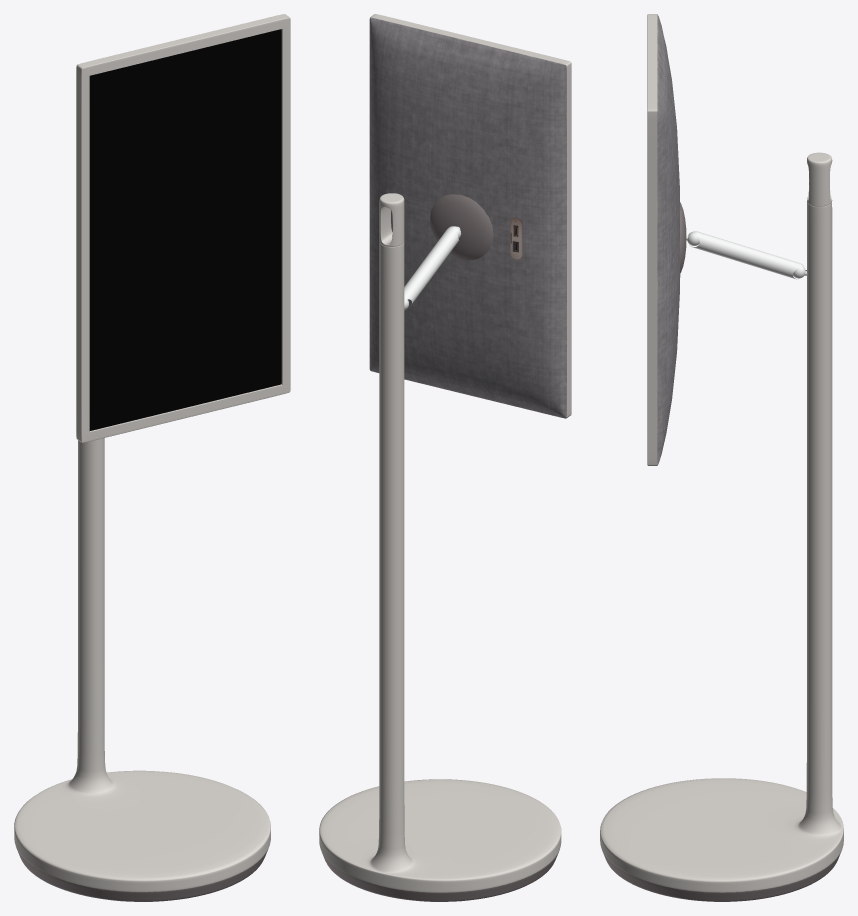
Rendered from lgStandbyMe_off_portrait.glb.
3 views of the same model, side by side, from view 1: azimuth 30°, elevation 25°; view 2: azimuth 150°, elevation 25°; view 3: azimuth 270°, elevation 25° (orthographic). The views are drawn at different scales.
Parts seen in each view (by area): view 1: screenOff, LG_Standby_Me_Cylinder.001, frame; view 2: frame, LG_Standby_Me_Cylinder.001; view 3: LG_Standby_Me_Cylinder.001, frame.
Part boxes in pixels (box(x1,y1,x2,y2)): screenOff: box(89, 29, 281, 430); LG_Standby_Me_Cylinder.001: box(14, 438, 270, 901); frame: box(76, 14, 290, 442); frame: box(369, 14, 571, 418); LG_Standby_Me_Cylinder.001: box(319, 193, 561, 901); LG_Standby_Me_Cylinder.001: box(600, 152, 843, 901); frame: box(647, 14, 686, 465).
Bounding box in the file's own units: 17.61 × 63.29 × 17.61.
Materials: 1 (1 with a texture image).
